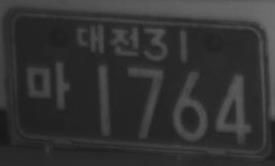1: (85, 64, 121, 137), (171, 29, 196, 65)
3: (141, 27, 169, 62)
4: (213, 72, 253, 146)
6: (170, 69, 209, 144)
7: (125, 65, 165, 140)
대전_O: (74, 22, 141, 58)
마: (25, 60, 70, 110)
